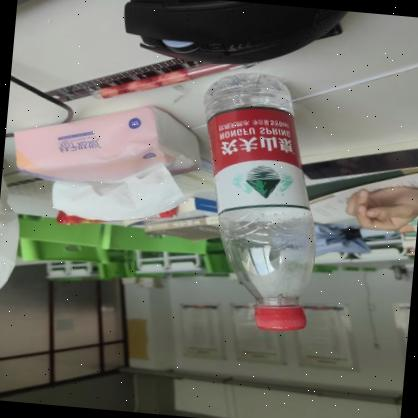bottle: (185, 71, 329, 338)
cap: (254, 296, 311, 338)
label: (200, 100, 308, 222)
